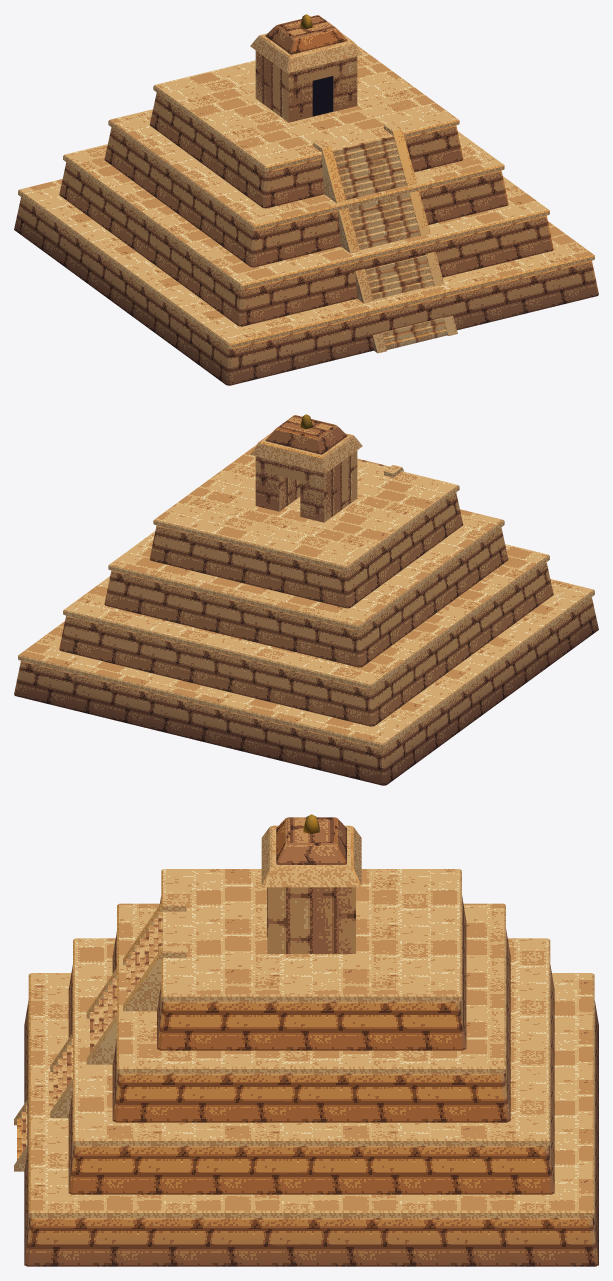
The model's file is ruin.pyramid__great.glb.
3 views of the same model, one above another, from view 1: azimuth 30°, elevation 25°; view 2: azimuth 150°, elevation 25°; view 3: azimuth 270°, elevation 25° (orthographic). The views are drawn at different scales.
Parts seen in each view (by area): view 1: kit_tiers, kit_lips, kit_stairs, kit_shrine, kit_balustrades, kit_roof, kit_shrine_door; view 2: kit_tiers, kit_lips, kit_shrine, kit_roof; view 3: kit_lips, kit_tiers, kit_roof, kit_shrine, kit_balustrades, kit_stairs.
Boxes of the visible parts, <box> form: kit_tiers: <box>14,93,598,385</box>; kit_lips: <box>18,45,594,348</box>; kit_stairs: <box>332,135,447,349</box>; kit_shrine: <box>255,50,357,122</box>; kit_balustrades: <box>313,122,457,353</box>; kit_roof: <box>250,14,362,72</box>; kit_shrine_door: <box>312,76,333,116</box>; kit_tiers: <box>14,493,598,785</box>; kit_lips: <box>18,445,594,748</box>; kit_shrine: <box>255,450,357,522</box>; kit_roof: <box>250,414,362,472</box>; kit_lips: <box>28,869,594,1217</box>; kit_tiers: <box>24,896,598,1266</box>; kit_roof: <box>261,814,361,887</box>; kit_shrine: <box>267,887,355,953</box>; kit_balustrades: <box>14,900,186,1171</box>; kit_stairs: <box>17,911,162,1160</box>.
Size of the model in its own units: 19.5 by 12.44 by 19.85.
8 materials, 7 textured.
